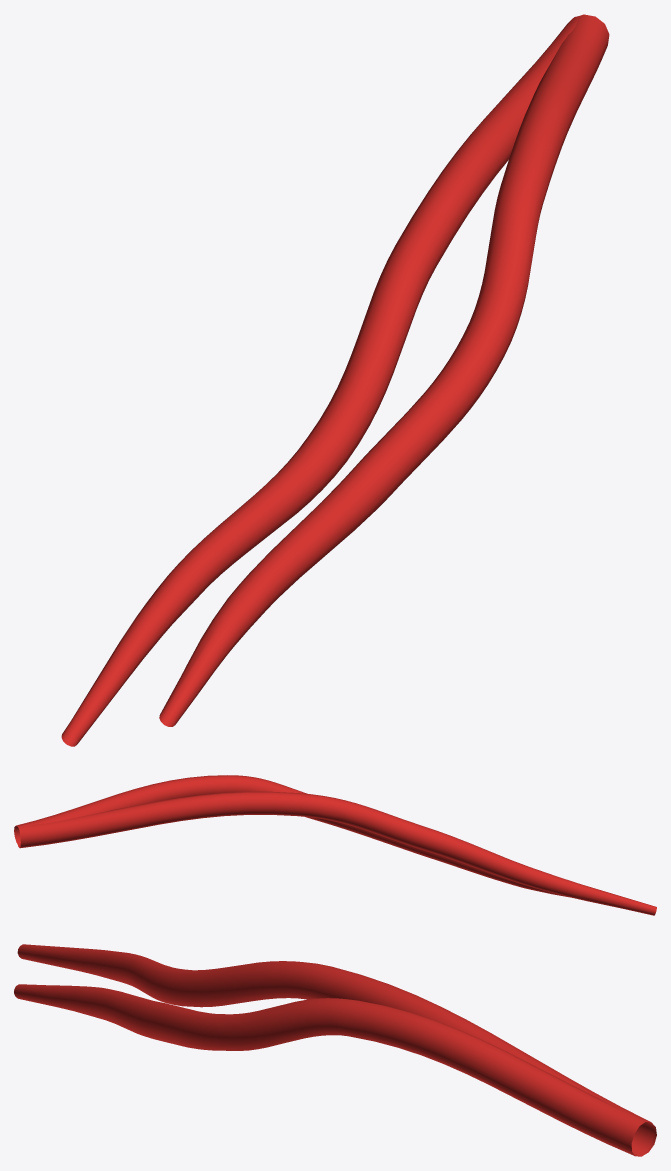
The model's file is circulatorio-short-posterior-ciliary-arteries-r.glb.
3 renders of one model, top to bottom at view 1: azimuth 30°, elevation 25°; view 2: azimuth 150°, elevation 25°; view 3: azimuth 270°, elevation 25°, orthographic. The views are drawn at different scales.
Visible parts, largest first — view 1: Short posterior ciliary arteries.r; view 2: Short posterior ciliary arteries.r; view 3: Short posterior ciliary arteries.r.
Part boxes in pixels (left/top/right/bottom): Short posterior ciliary arteries.r: left=61, top=14, right=609, bottom=746; Short posterior ciliary arteries.r: left=14, top=775, right=656, bottom=915; Short posterior ciliary arteries.r: left=14, top=944, right=656, bottom=1156.
Size of the model in its own units: 0.0114 by 0.00329 by 0.0085.
